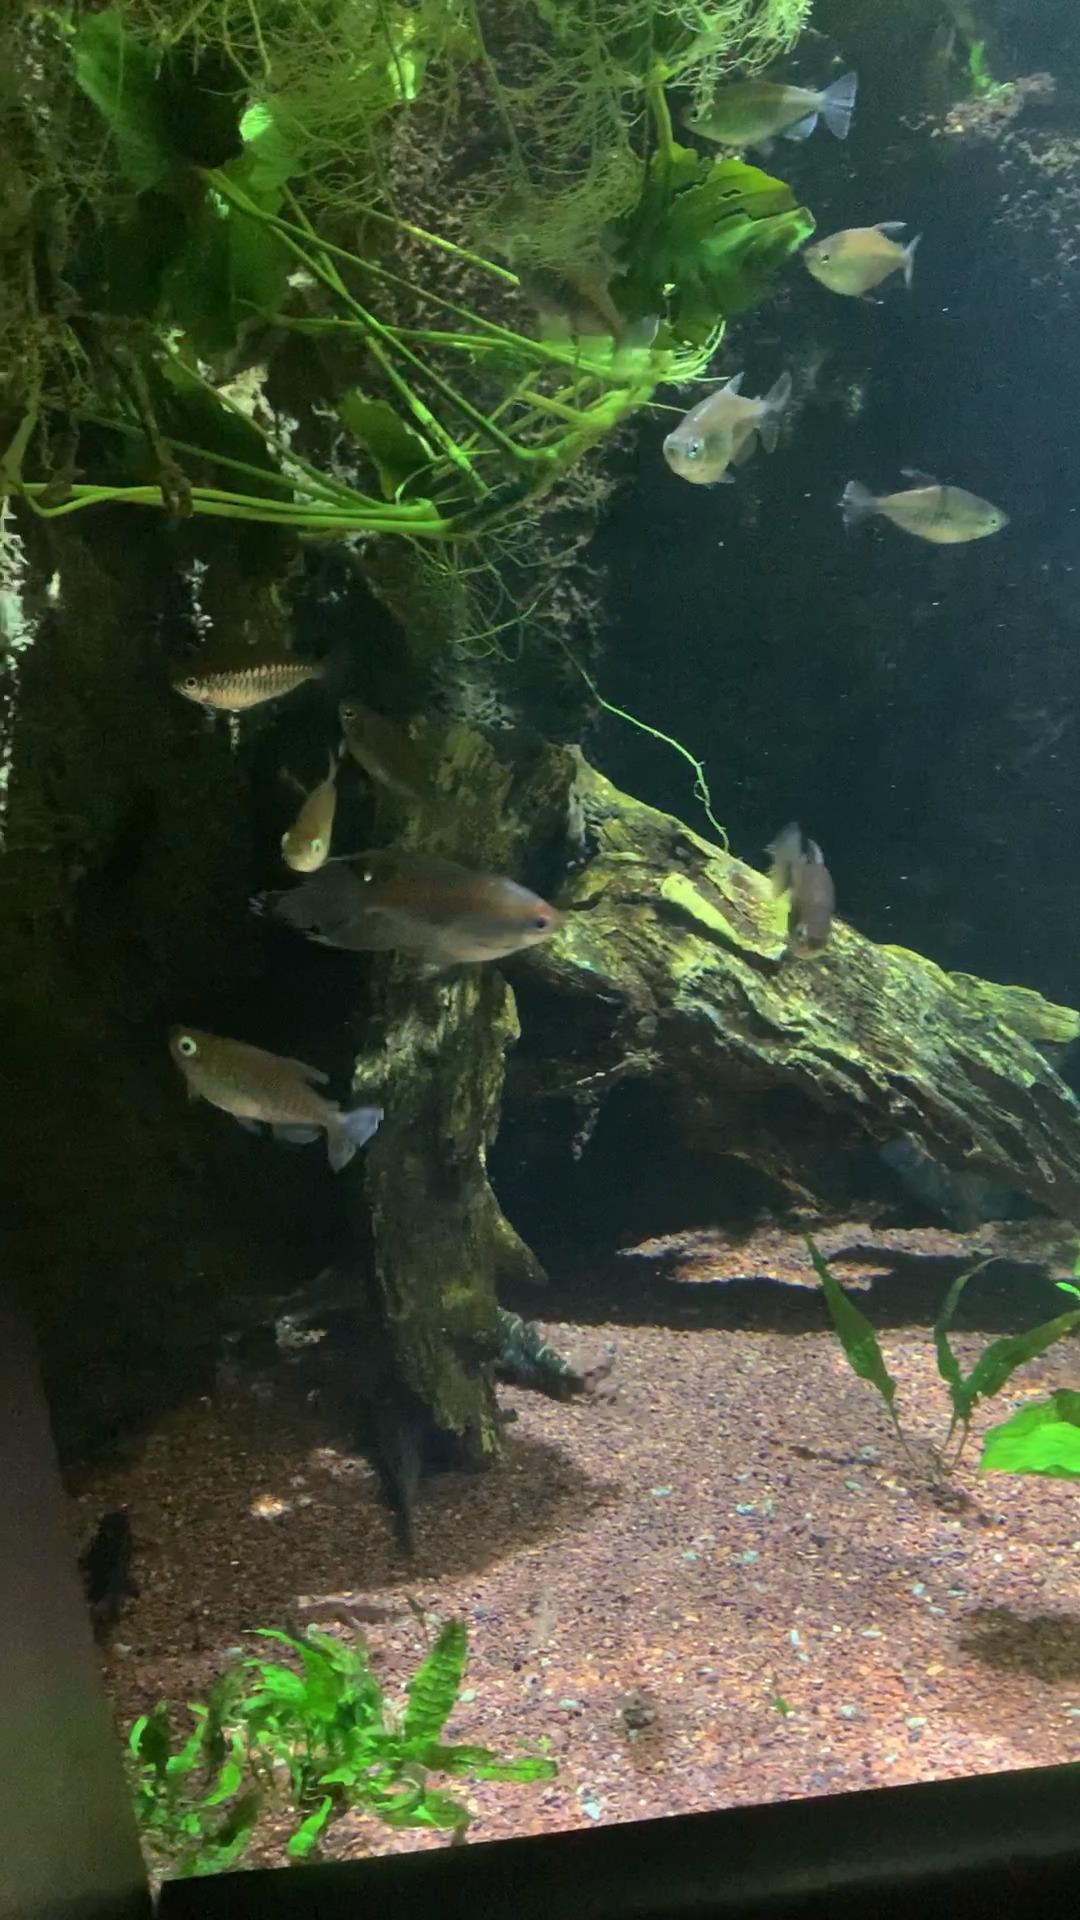fish: (247, 849, 571, 988), (157, 1014, 392, 1178), (661, 368, 803, 492), (676, 69, 862, 160), (833, 473, 1007, 549), (171, 653, 330, 729), (76, 1509, 158, 1652), (800, 220, 926, 309), (764, 824, 836, 959), (281, 752, 340, 876)
